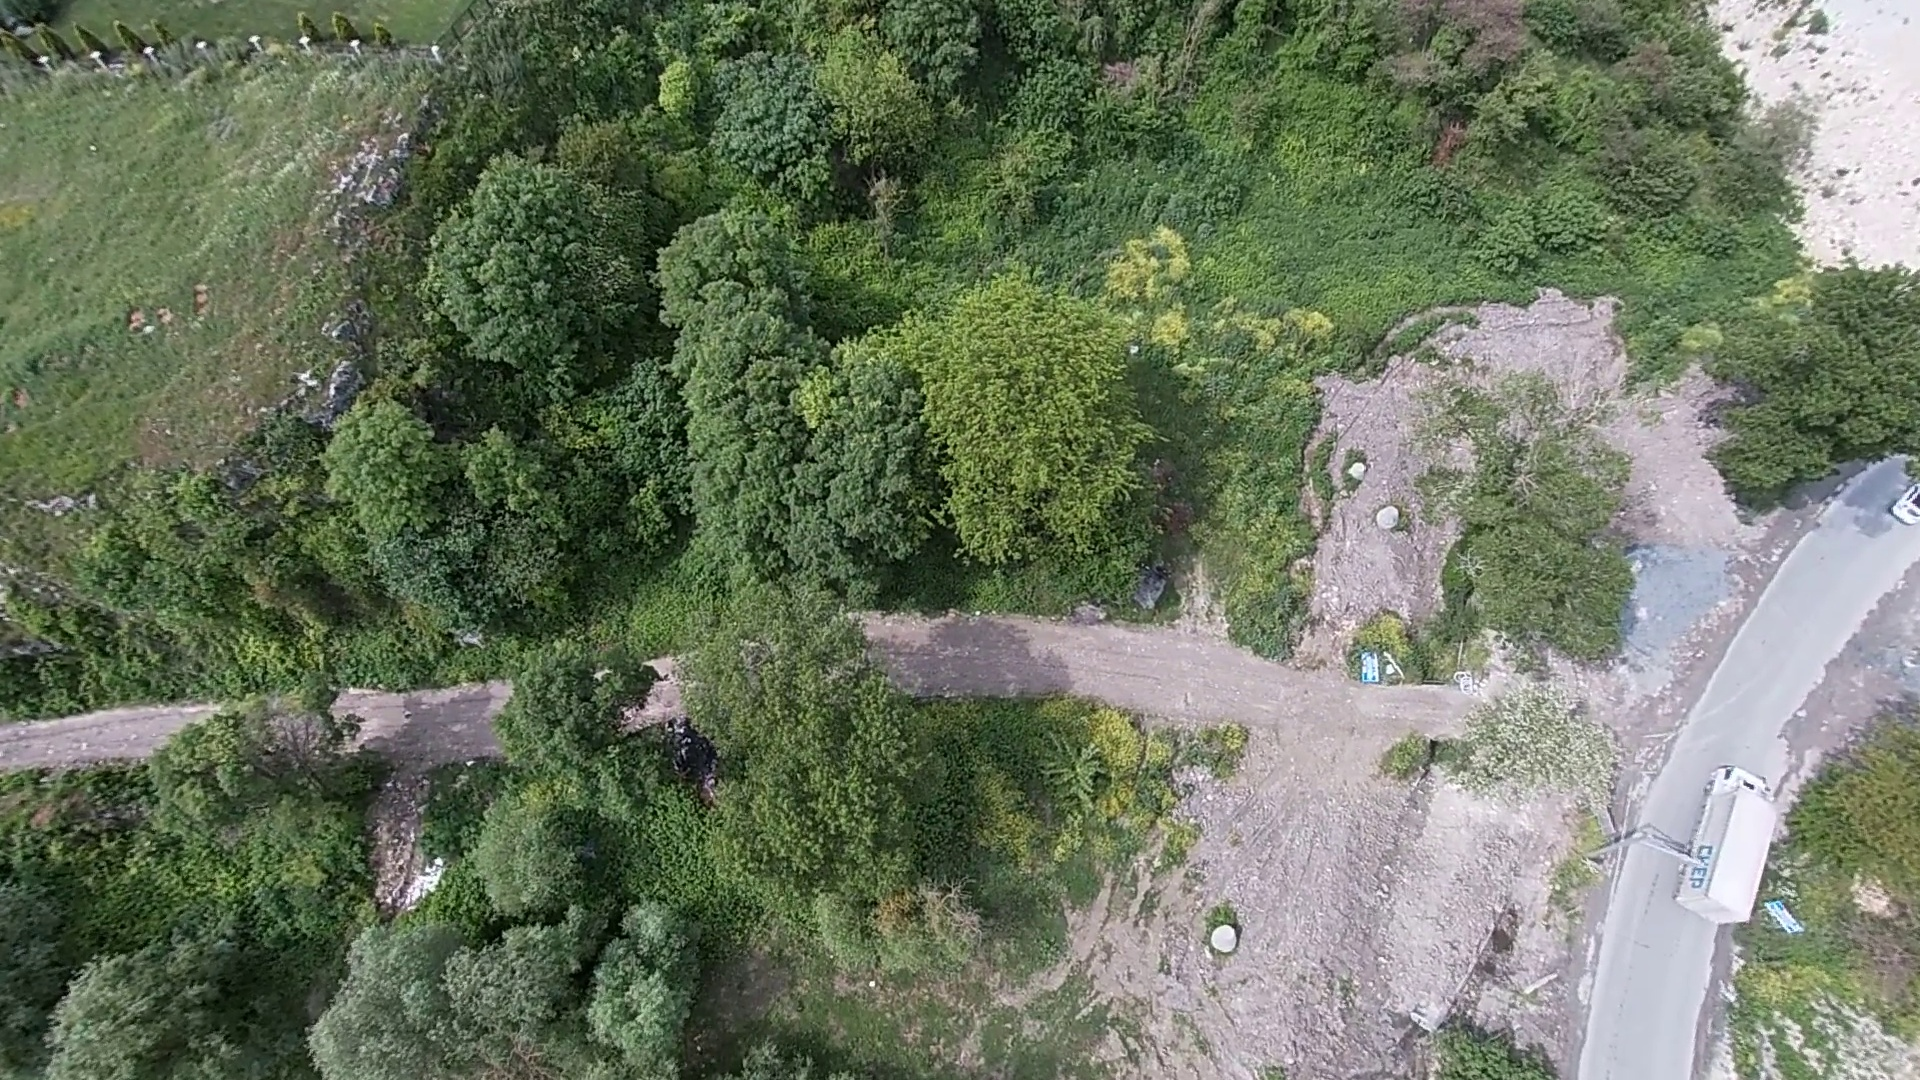arac: (1664, 756, 1775, 927), (1887, 475, 1920, 527)
